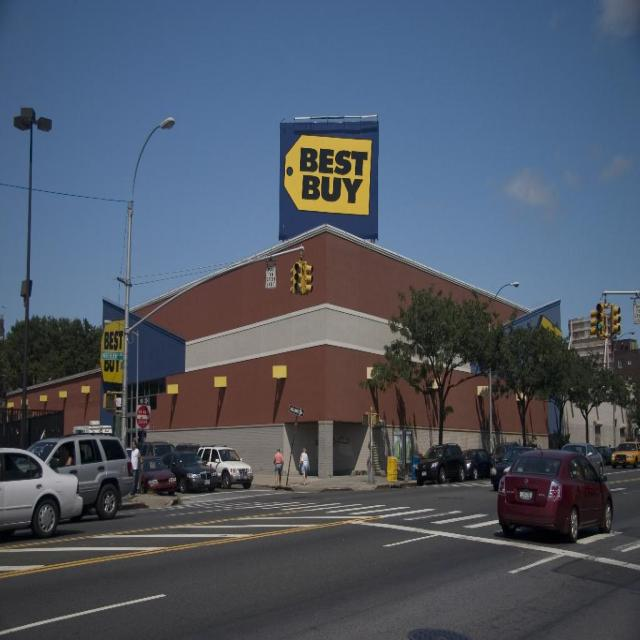car: (498, 452, 613, 545)
